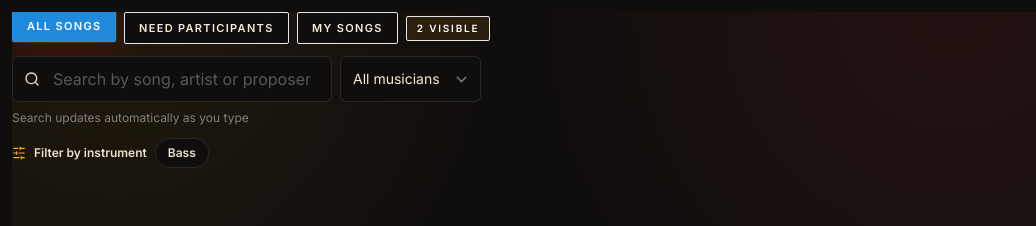
Test: board filters › combines rapid role, search and participant changes and clears them together
In the field: (172,79) [12,56,332,102], type "test"
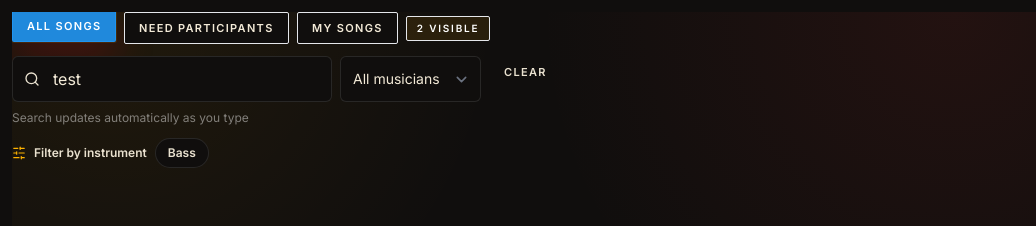
Click the button "Bass": (182,153) [155,138,209,168]
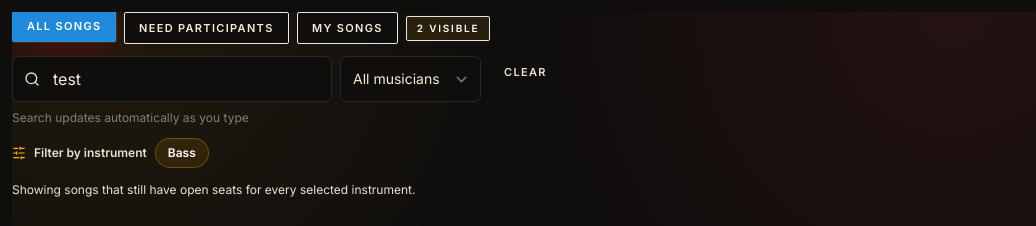
Select "Anna" in the dropdown: (410,79) [340,56,481,102]
Wait 250 ms
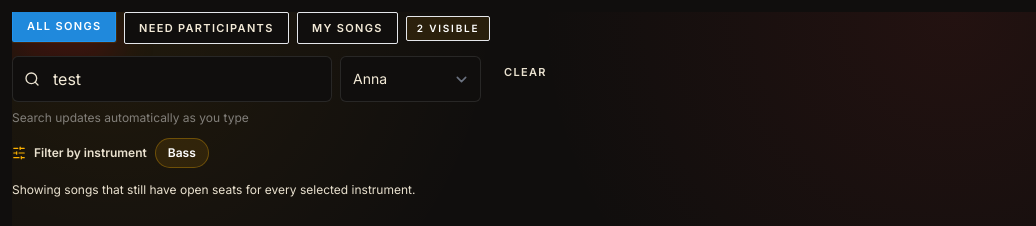
Click the button "Clear": (525,72) [489,56,562,88]
Wait 250 ms
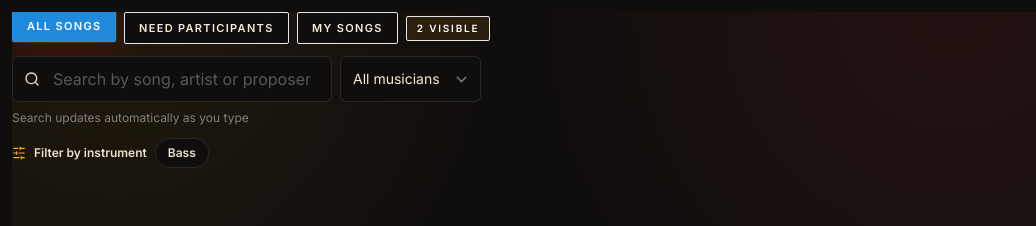
Expected: the field is empty, [12,56,332,102]
